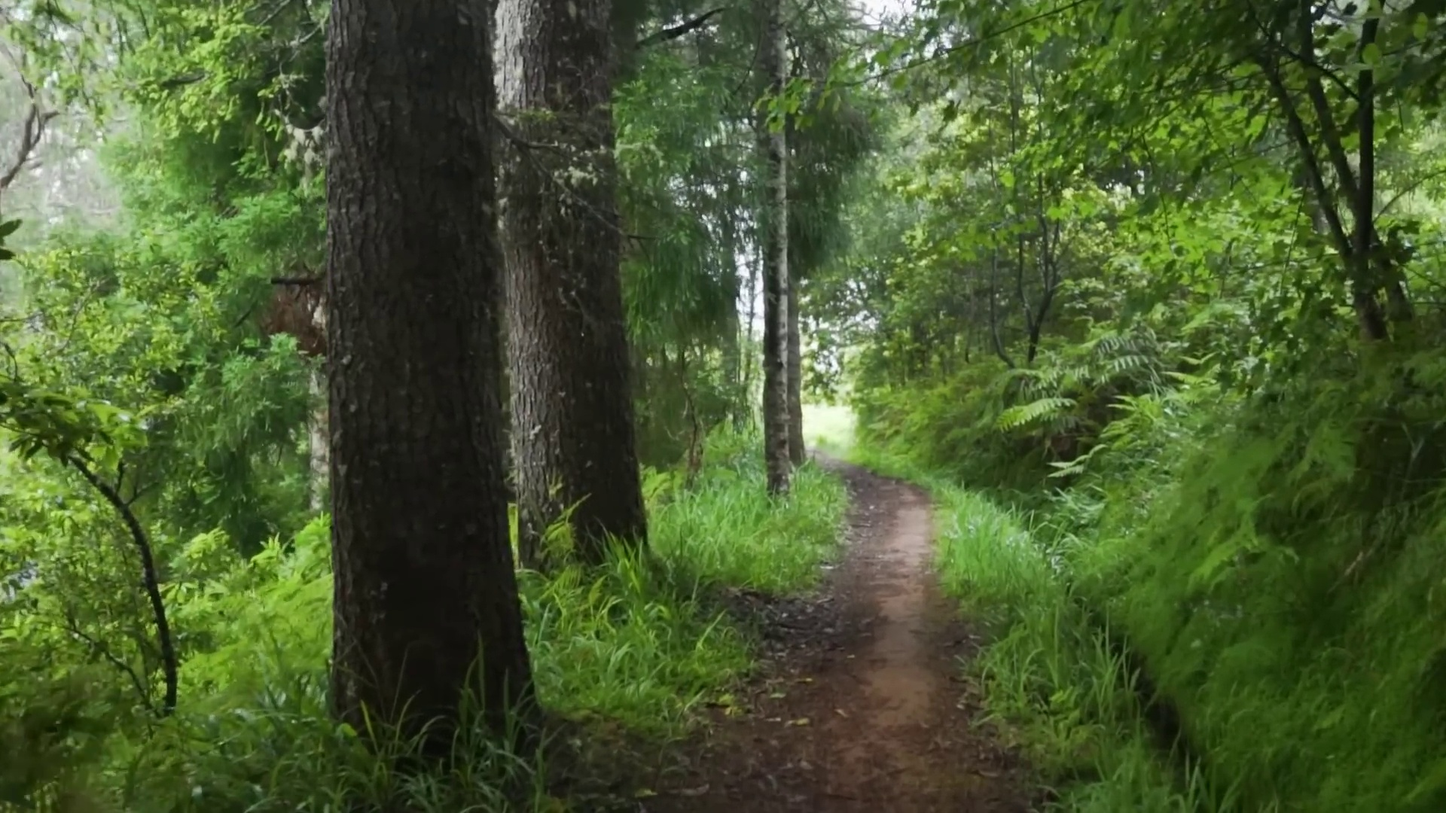tree: (325, 0, 530, 730), (497, 0, 646, 565), (755, 102, 792, 494)
